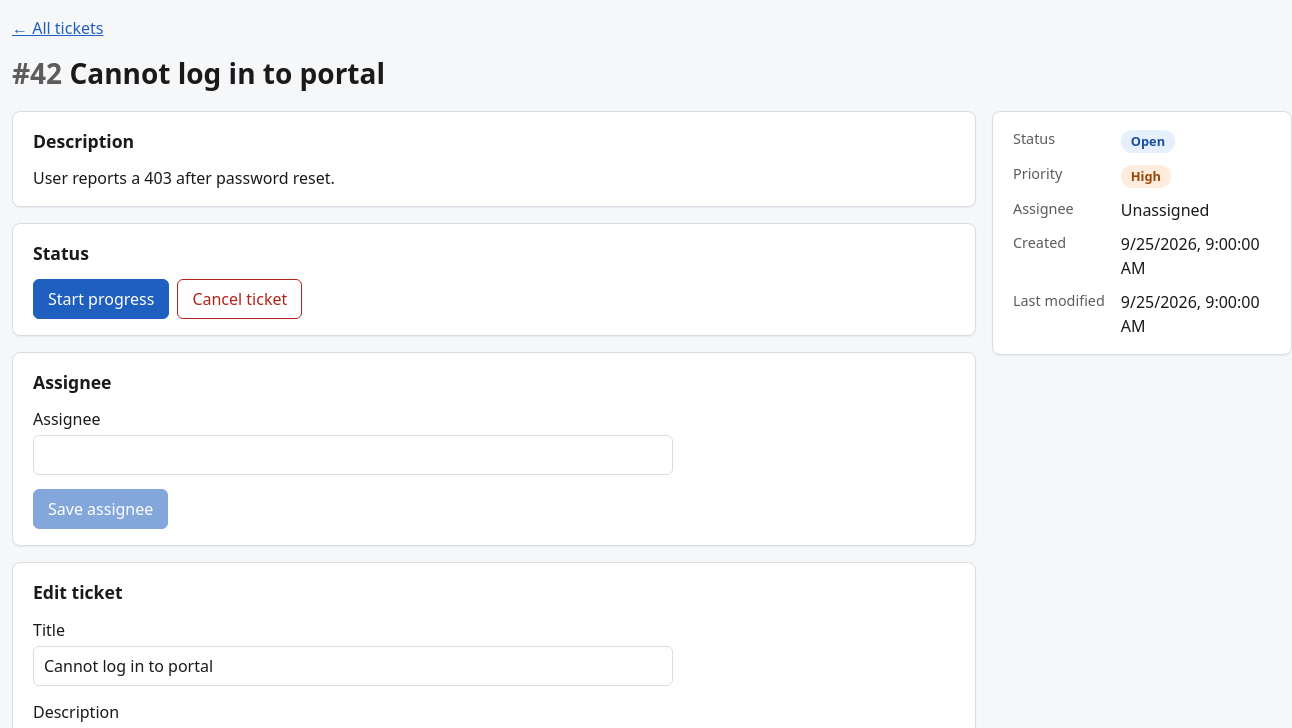
Scenario: status actions (REQ-11/12, TS-FE-07/08) › clears the conflict message once the ticket has been reloaded (I-2)
Click the button "Start progress" at (101, 299), box [33,279,169,319]
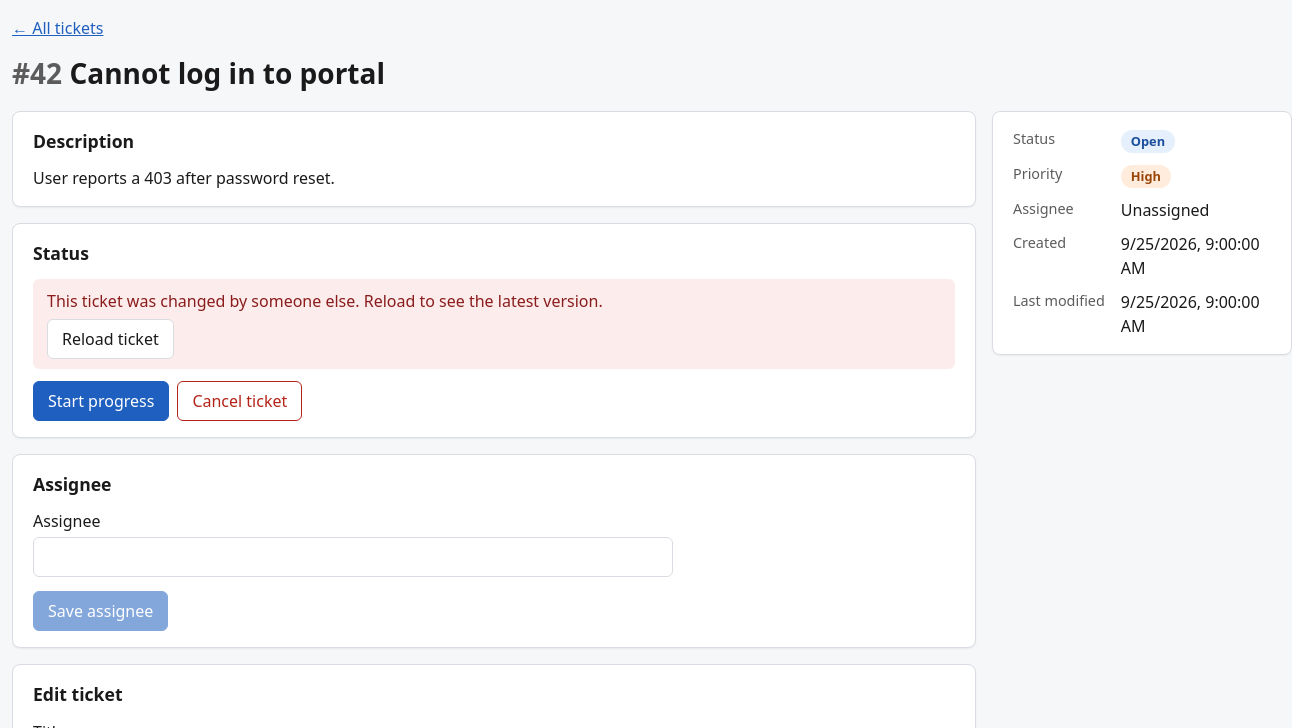
Click the button "Reload ticket" at (110, 339), box [47,319,174,359]
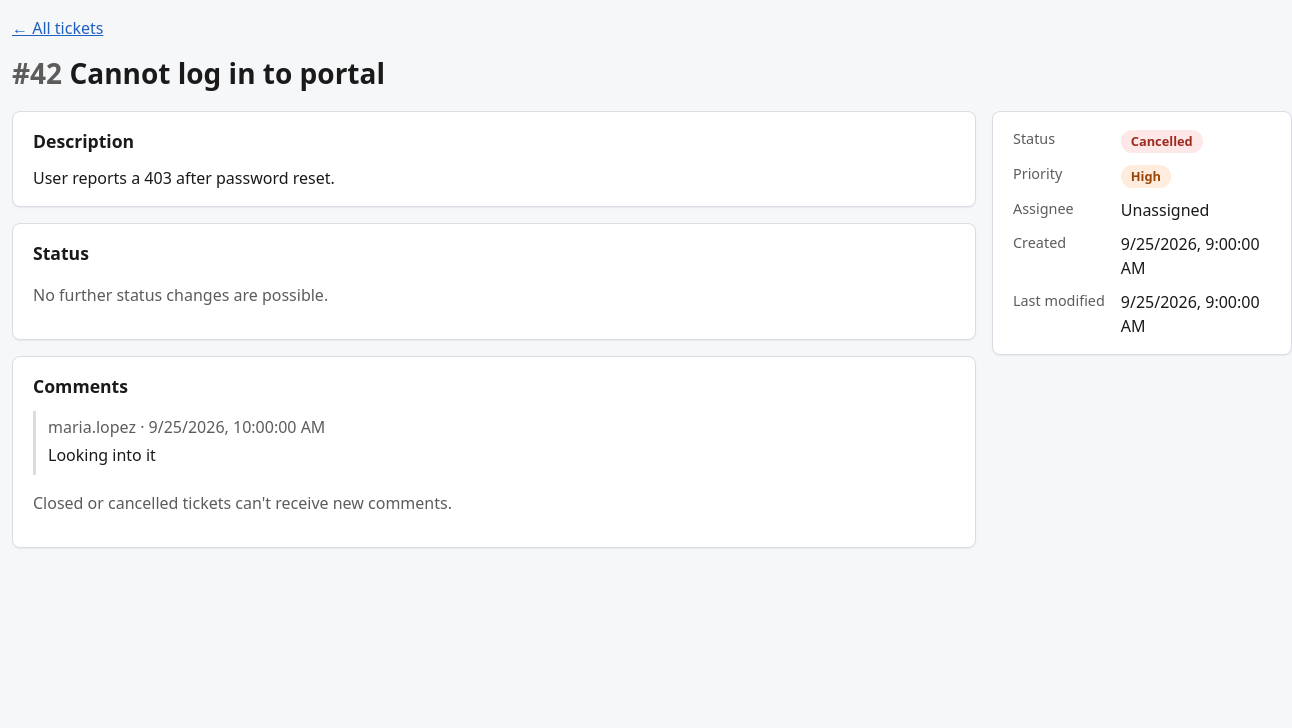
Now the text "No further status changes are possible." is shown, box [33,284,328,306]
Now the message is gone
